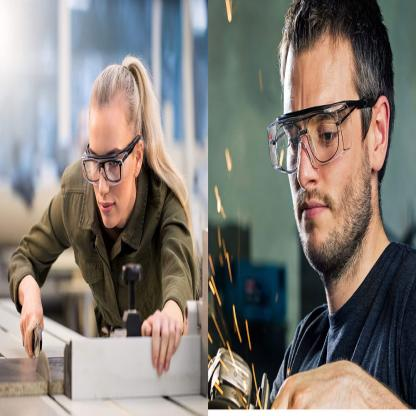oculos: (269, 100, 361, 174), (82, 146, 134, 186)
